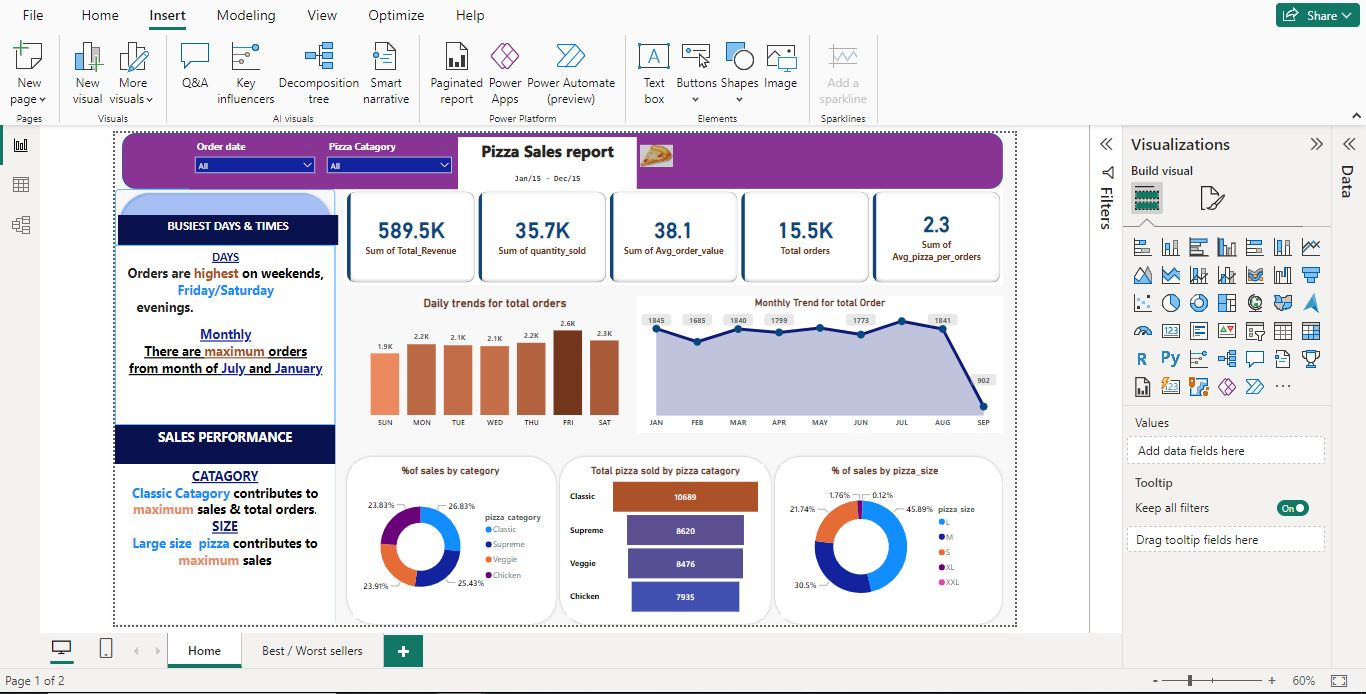

The page's visual inventory and layout, read from the dashboard file:
{"tool":"powerbi","page":{"name":"Home","canvas":[1500,820],"ordinal":0},"visuals":[{"type":"shape","box":[0,93.3,366.7,726.7],"z":0},{"type":"cardVisual","fields":{"Data":["Sum(Total_revenue.Total_Revenue)","Sum(Quantity of pizza sold.quantity_sold)","Sum(Avg order value.Avg_order_value)","Pizza sales project.Total orders","Sum(Avg pizza orders.Avg_pizza_per_orders)"]},"box":[381.7,93.3,1098.3,160],"z":1000},{"type":"shape","box":[11.7,0,1468.3,93.3],"z":2000},{"type":"textbox","box":[571.7,6.7,298.3,55],"z":3000},{"type":"textbox","box":[571.7,61.7,298.3,31.7],"z":4000},{"type":"image","box":[870,6.7,65,63.3],"z":5000},{"type":"columnChart","title":"Daily trends for total orders","fields":{"Category":["Pizza sales project.Order_day"],"Y":["Pizza sales project.Total orders"]},"box":[396.7,271.7,473.3,228.3],"z":6000},{"type":"areaChart","title":"Monthly Trend for total Order","fields":{"Y":["Pizza sales project.Total orders"],"Category":["Pizza sales project.Month_Order"]},"box":[870,271.7,610,228.3],"z":7000},{"type":"shape","box":[381.7,535,355,285],"z":8000},{"type":"shape","box":[736.7,535,358.3,285],"z":9000},{"type":"shape","box":[1095,535,385,285],"z":10000},{"type":"donutChart","title":"%of sales by category","fields":{"Y":["Sum(Total_revenue.Total_Revenue)"],"Category":["Total_revenue.pizza_category"]},"box":[396.7,551.7,325,256.7],"z":11000},{"type":"funnel","title":"Total pizza sold by pizza catagory","fields":{"Category":["Total pizza sold by pizza catagory.pizza_category"],"Y":["Sum(Total pizza sold by pizza catagory.quantity_sold)"]},"box":[753.3,551.7,328.3,256.7],"z":12000},{"type":"donutChart","title":"% of sales by pizza_size","fields":{"Y":["Sum(Pizza size.Total_Revenue)"],"Category":["Pizza size.pizza_size"]},"box":[1110,551.7,346.7,256.7],"z":13000},{"type":"textbox","box":[5,136.7,366.7,50],"z":14000},{"type":"textbox","box":[0,186.7,366.7,300],"z":15000},{"type":"textbox","box":[0,486.7,366.7,65],"z":16000},{"type":"textbox","box":[0,551.7,366.7,268.3],"z":17000},{"type":"slicer","fields":{"Values":["Total pizza sold by pizza catagory.pizza_category"]},"box":[343.3,6.7,228.3,86.7],"z":18000},{"type":"slicer","fields":{"Values":["Pizza sales project.new_order_date"]},"box":[123.3,6.7,220,86.7],"z":19000},{"type":"pageNavigator","box":[0,0,400,50],"z":19001},{"type":"bookmarkNavigator","box":[0,0,600,50],"z":19004}]}

Visuals, with their boxes on the page's 1500x820 design canvas (x1, y1, x2, y2). These are canvas units, not pixel positions in the 1366x694 screenshot, which may show the page scaled, cropped or inside an application window:
shape: <region>0, 93, 367, 820</region>
cardVisual - Sum(Total_revenue.Total_Revenue) x Sum(Quantity of pizza sold.quantity_sold): <region>382, 93, 1480, 253</region>
shape: <region>12, 0, 1480, 93</region>
textbox: <region>572, 7, 870, 62</region>
textbox: <region>572, 62, 870, 93</region>
image: <region>870, 7, 935, 70</region>
"Daily trends for total orders" columnChart: <region>397, 272, 870, 500</region>
"Monthly Trend for total Order" areaChart: <region>870, 272, 1480, 500</region>
shape: <region>382, 535, 737, 820</region>
shape: <region>737, 535, 1095, 820</region>
shape: <region>1095, 535, 1480, 820</region>
"%of sales by category" donutChart: <region>397, 552, 722, 808</region>
"Total pizza sold by pizza catagory" funnel: <region>753, 552, 1082, 808</region>
"% of sales by pizza_size" donutChart: <region>1110, 552, 1457, 808</region>
textbox: <region>5, 137, 372, 187</region>
textbox: <region>0, 187, 367, 487</region>
textbox: <region>0, 487, 367, 552</region>
textbox: <region>0, 552, 367, 820</region>
slicer - Total pizza sold by pizza catagory.pizza_category: <region>343, 7, 572, 93</region>
slicer - Pizza sales project.new_order_date: <region>123, 7, 343, 93</region>
pageNavigator: <region>0, 0, 400, 50</region>
bookmarkNavigator: <region>0, 0, 600, 50</region>
